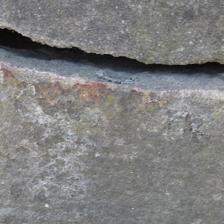Crack: (3, 12, 218, 90)
